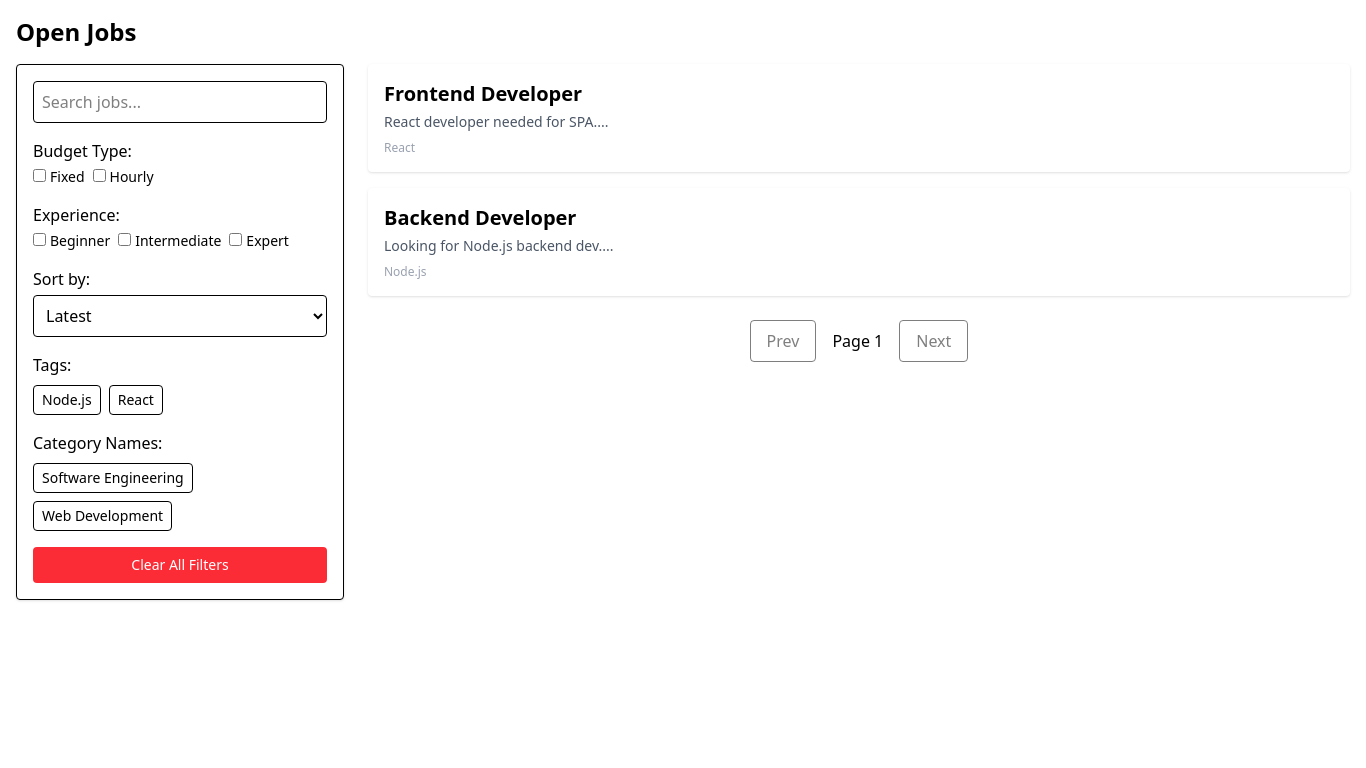
Scenario: OpenJobsPage – Filters › filters by tag (React)
Expected: the heading "Frontend Developer" is shown, [384, 80, 582, 107]
Expected: the heading "Backend Developer" is shown, [384, 204, 576, 231]
What coordinates should you click on to do the following:
click the button "React"
I would click on:
 (136, 400)
Its box is [109, 385, 163, 415].
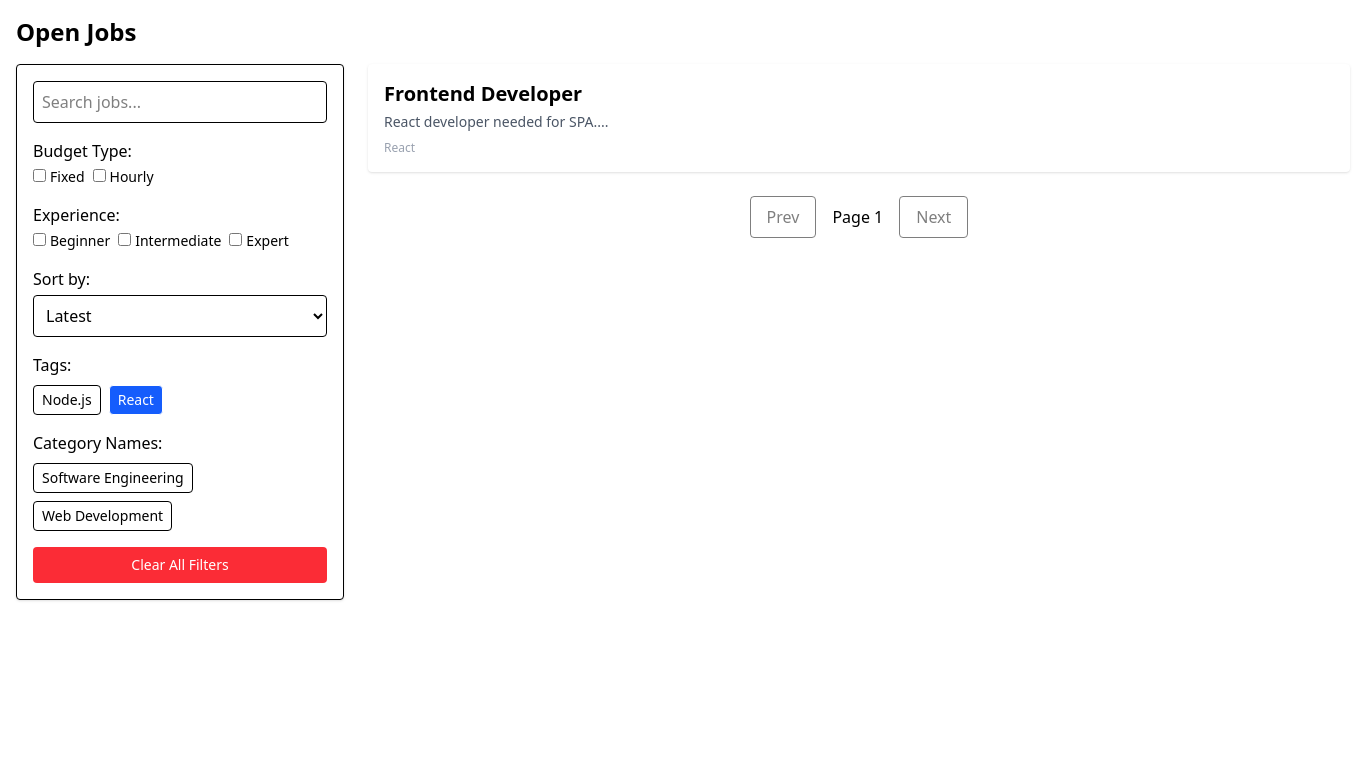
Expected: the heading "Frontend Developer" is shown, [384, 80, 582, 107]
Expected: the heading "Backend Developer" is gone
